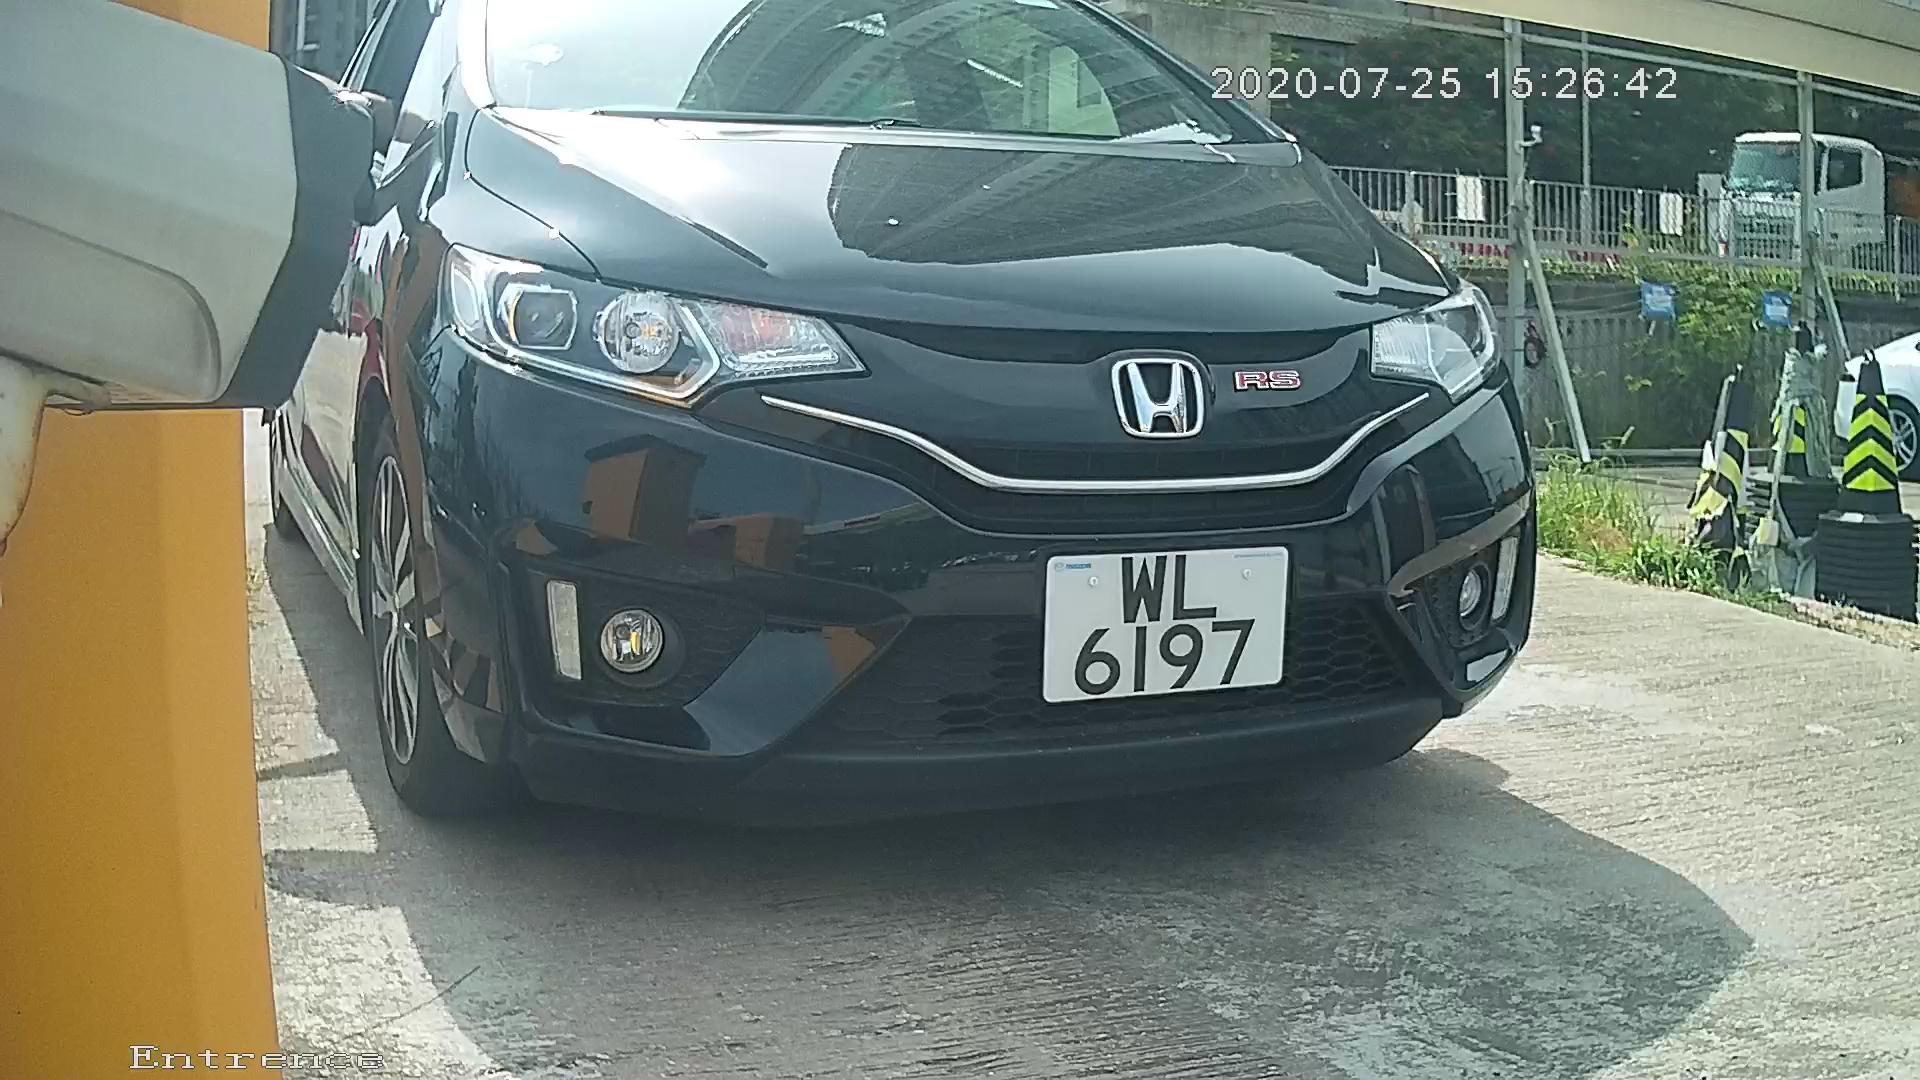License Plate: (1021, 526, 1295, 724)
